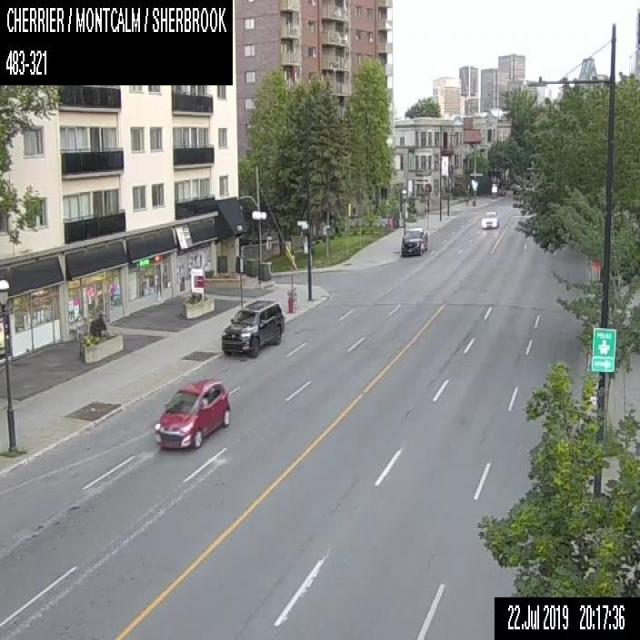vehicle: (153, 377, 229, 448), (220, 298, 285, 357), (399, 226, 428, 255), (481, 208, 498, 228)
